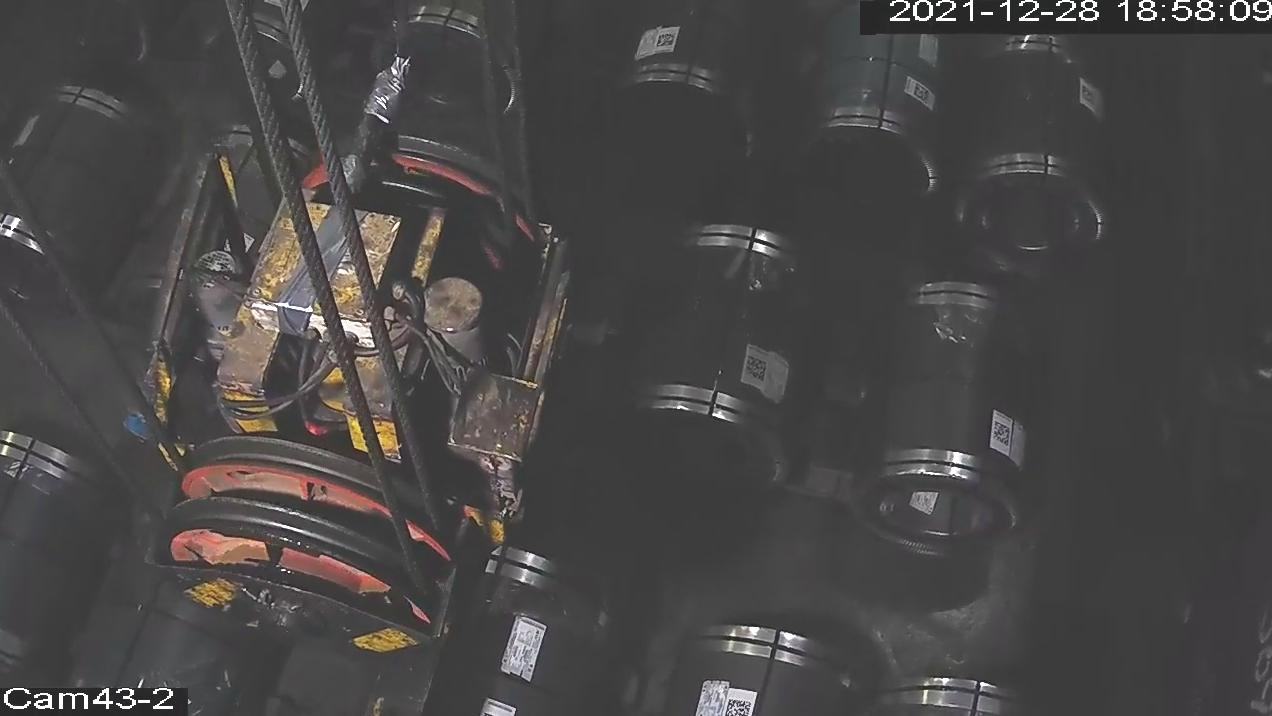data matrix: (743, 353, 771, 386), (724, 695, 756, 716), (992, 419, 1013, 449), (911, 81, 933, 107), (655, 31, 678, 51)
